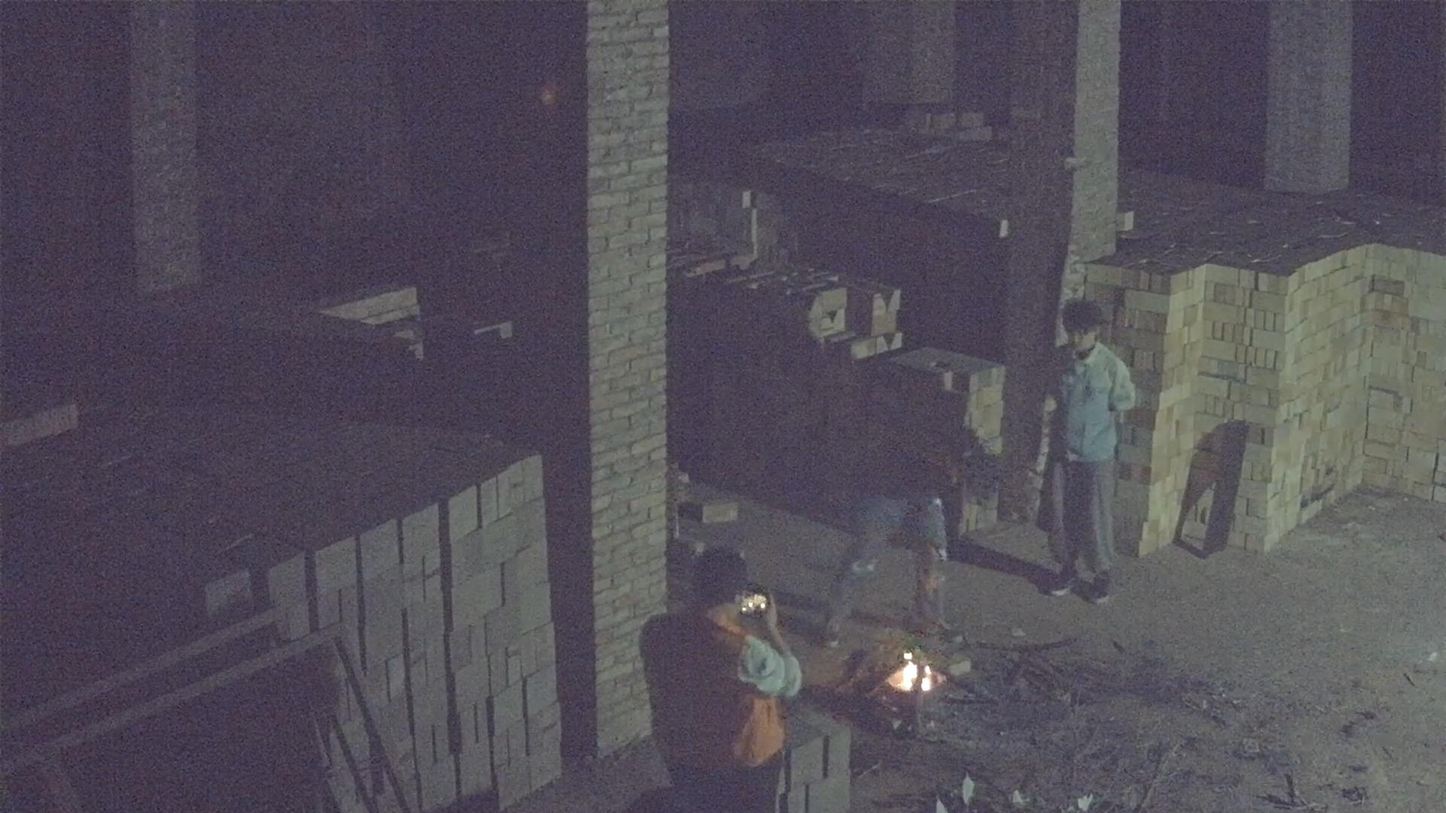fire: (886, 653, 937, 693)
